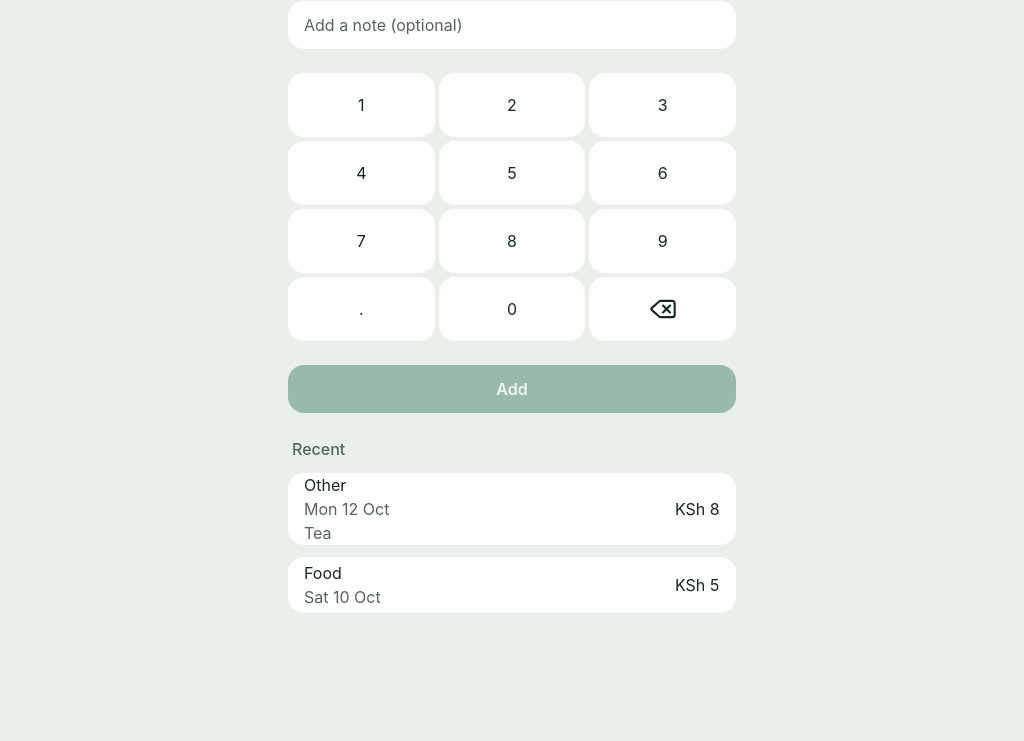
SpendTab › groups entries by date and edits or deletes them
(page scrolled)
Expected: the text "Mon 12 Oct" is shown, [304,497,389,521]
Expected: the text "Sat 10 Oct" is shown, [304,585,381,609]
Click the button named "OtherTeaKSh 8" at (325, 485), box [288,473,736,545]
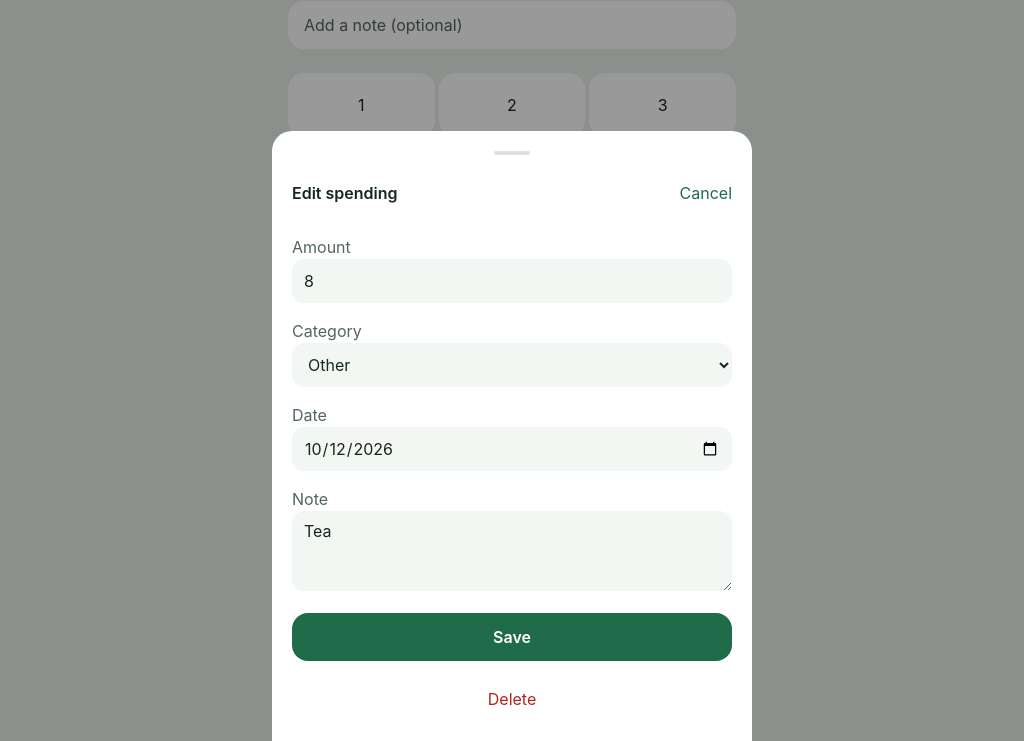
Replace the text in the field named "Edit amount" with "9" at (512, 281), box [292,259,732,303]
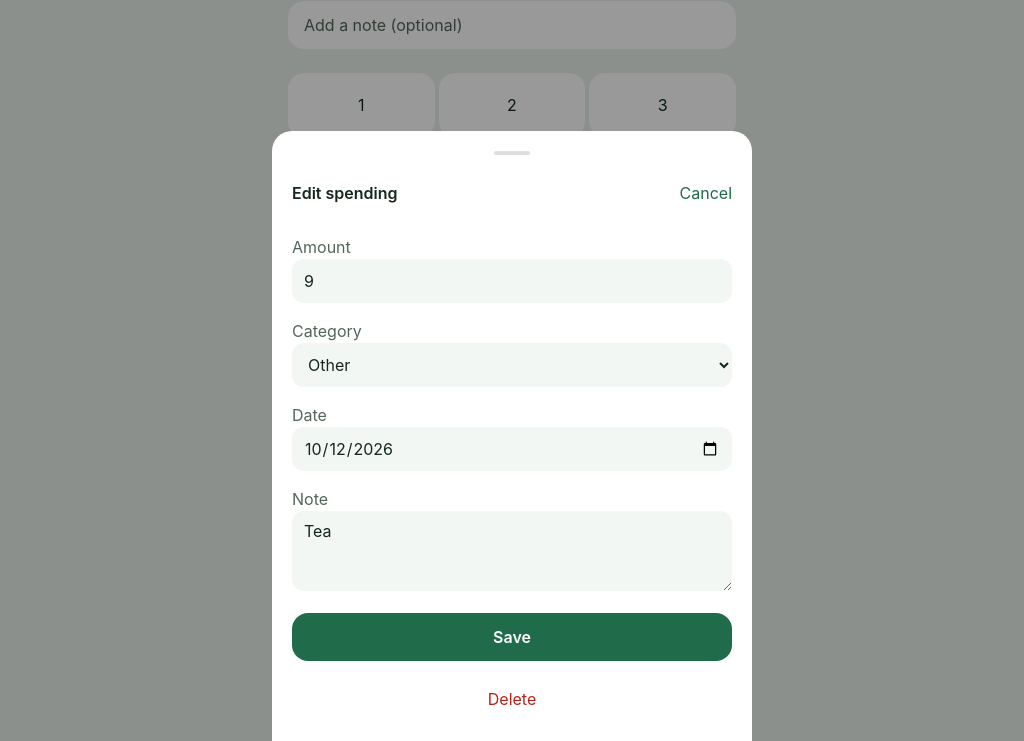
Click the button "Save" at (512, 637), box [292,613,732,661]
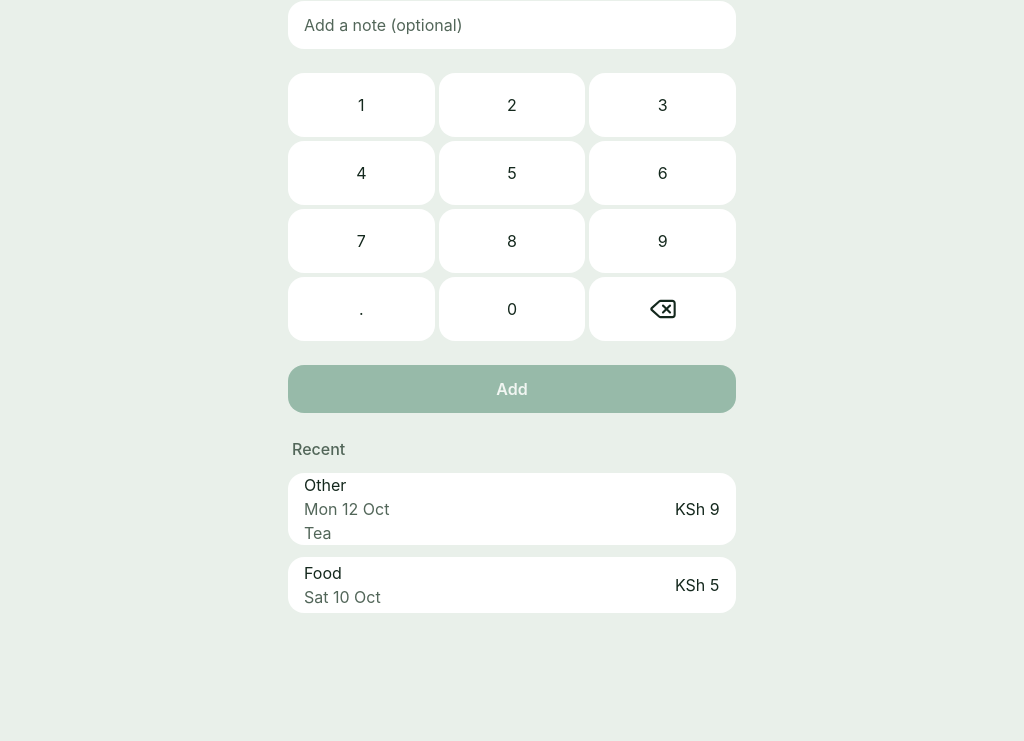
Expected: the text "KSh 9" is shown once, [675,497,720,521]
Click the button named "OtherTeaKSh 9" at (325, 485), box [288,473,736,545]
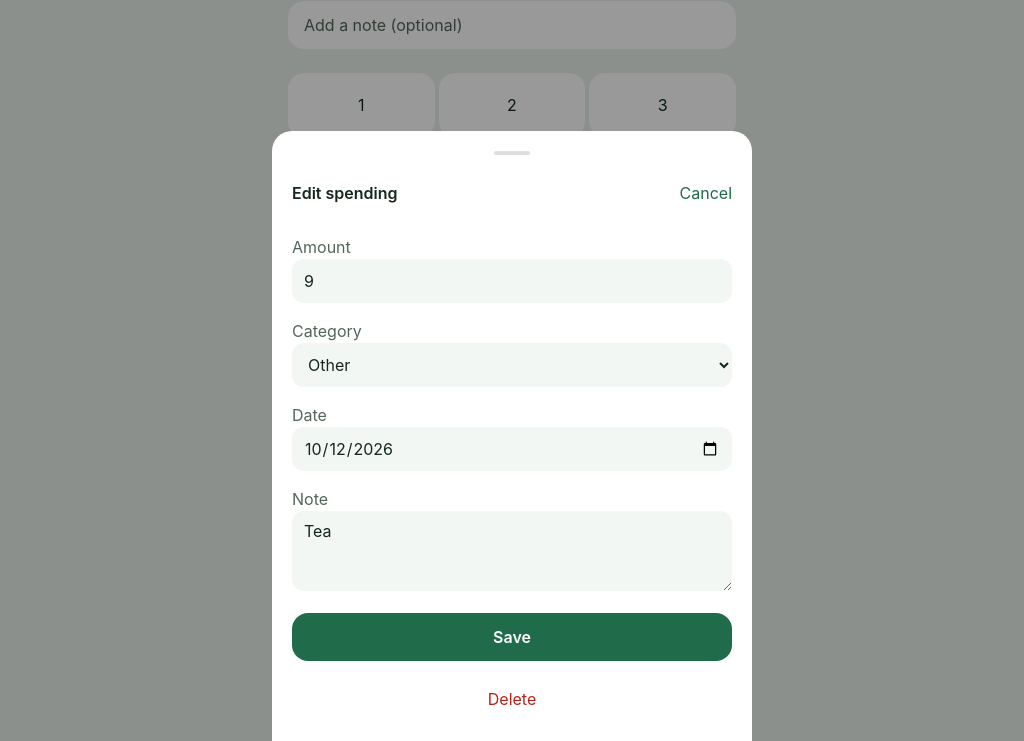
Click the button "Delete" at (512, 699), box [292,677,732,721]
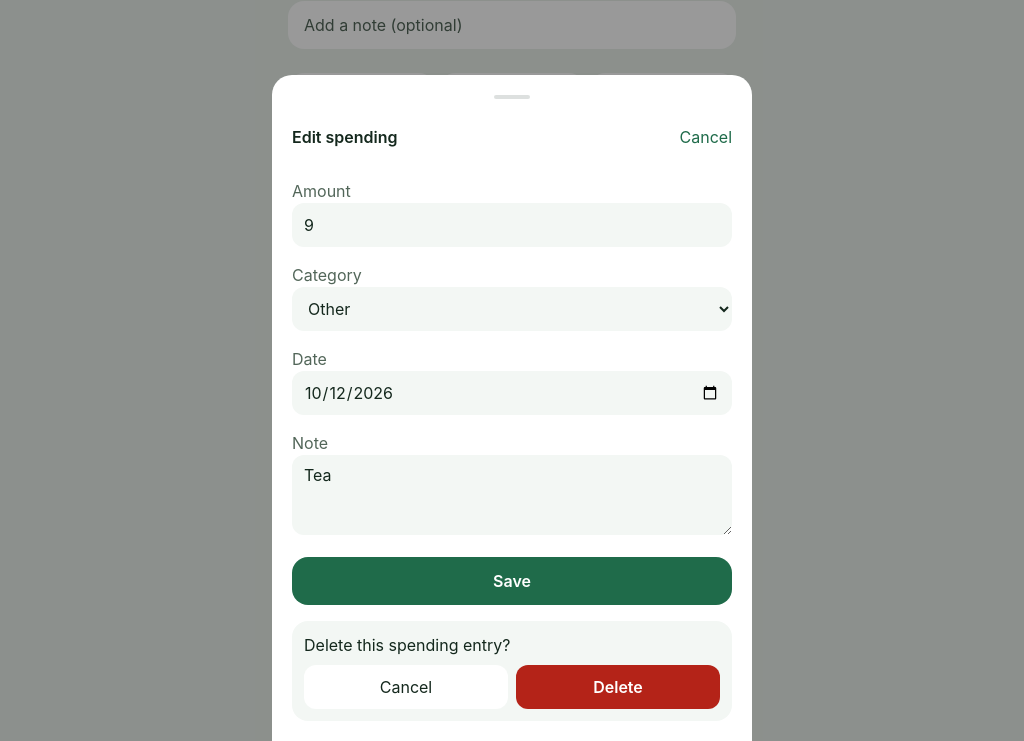
Click the button "Delete" at (618, 687), box [516,665,720,709]
(page scrolled)
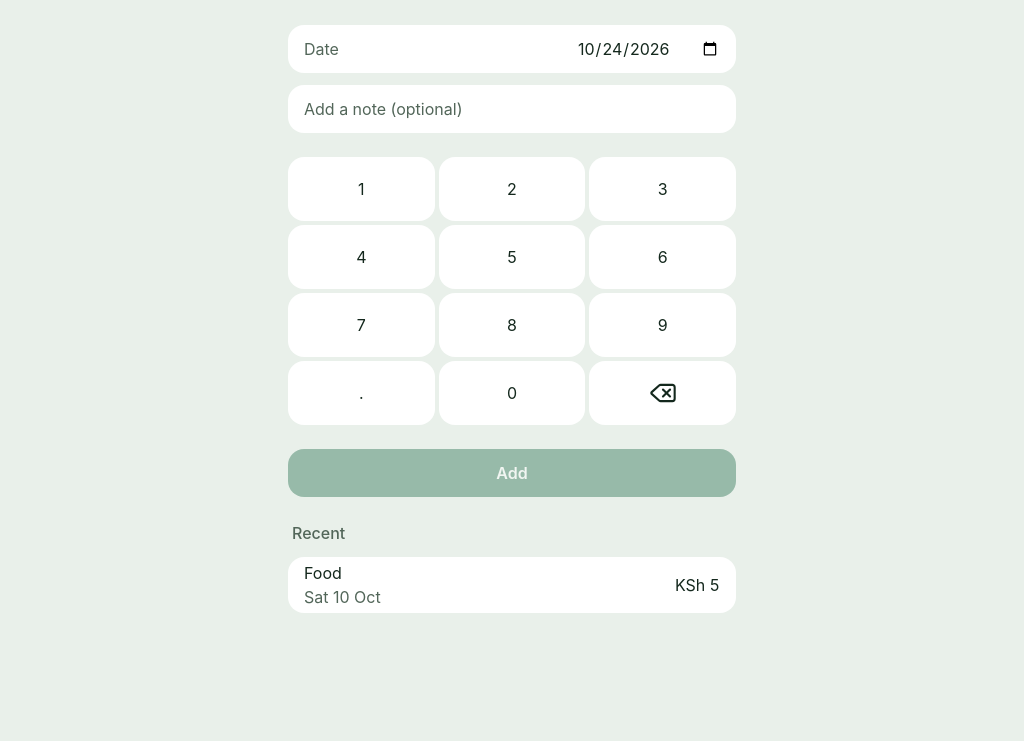
Now the button "Tea" is gone
